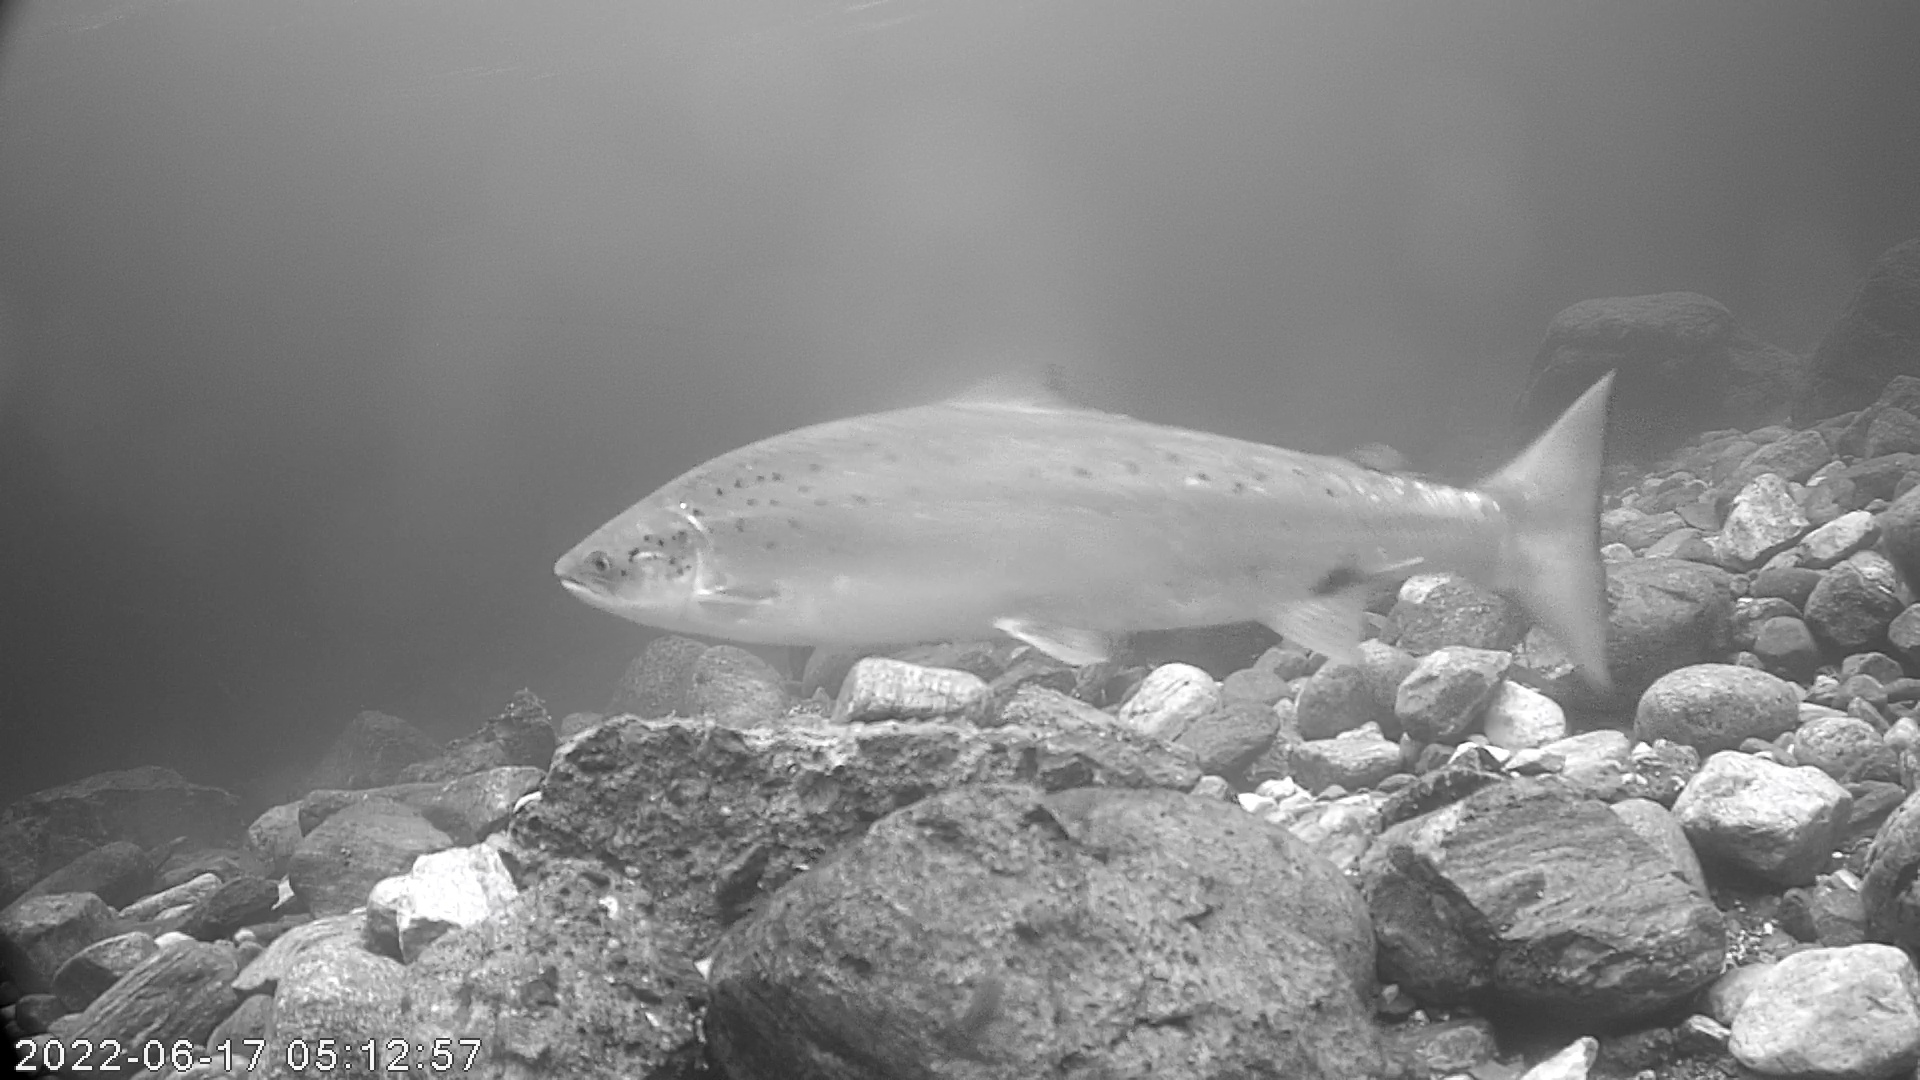salmon: (549, 352, 1619, 702)
